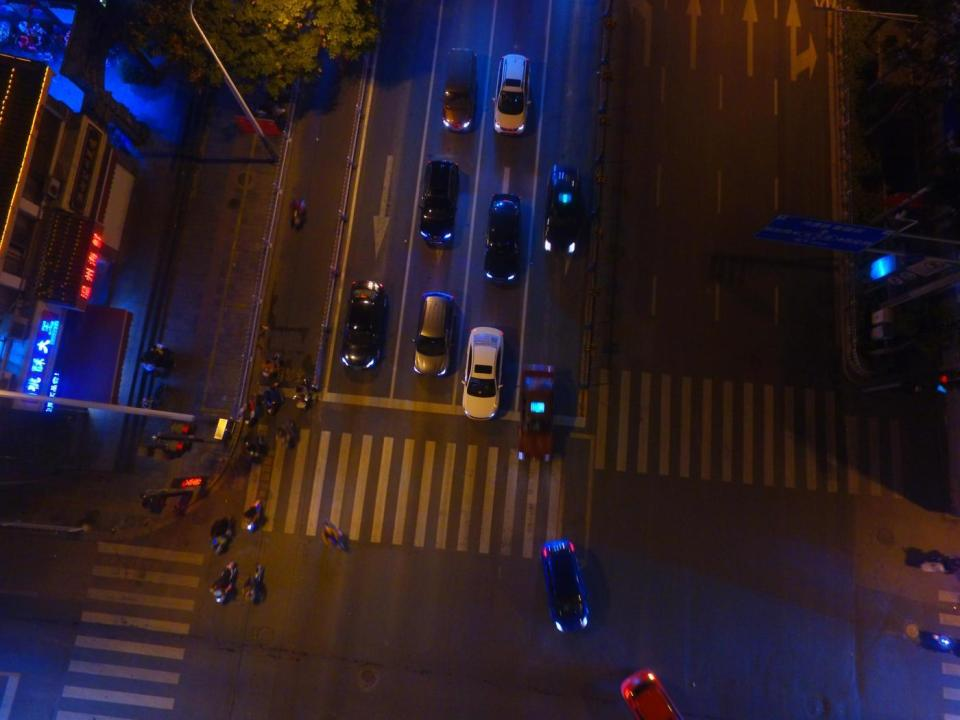car: (538, 539, 591, 636), (461, 324, 505, 421), (340, 280, 385, 370), (482, 192, 525, 285), (543, 159, 582, 257), (517, 362, 553, 463), (619, 668, 687, 720), (419, 159, 459, 247), (414, 292, 453, 377), (493, 52, 532, 135)
van: (441, 45, 476, 131)
